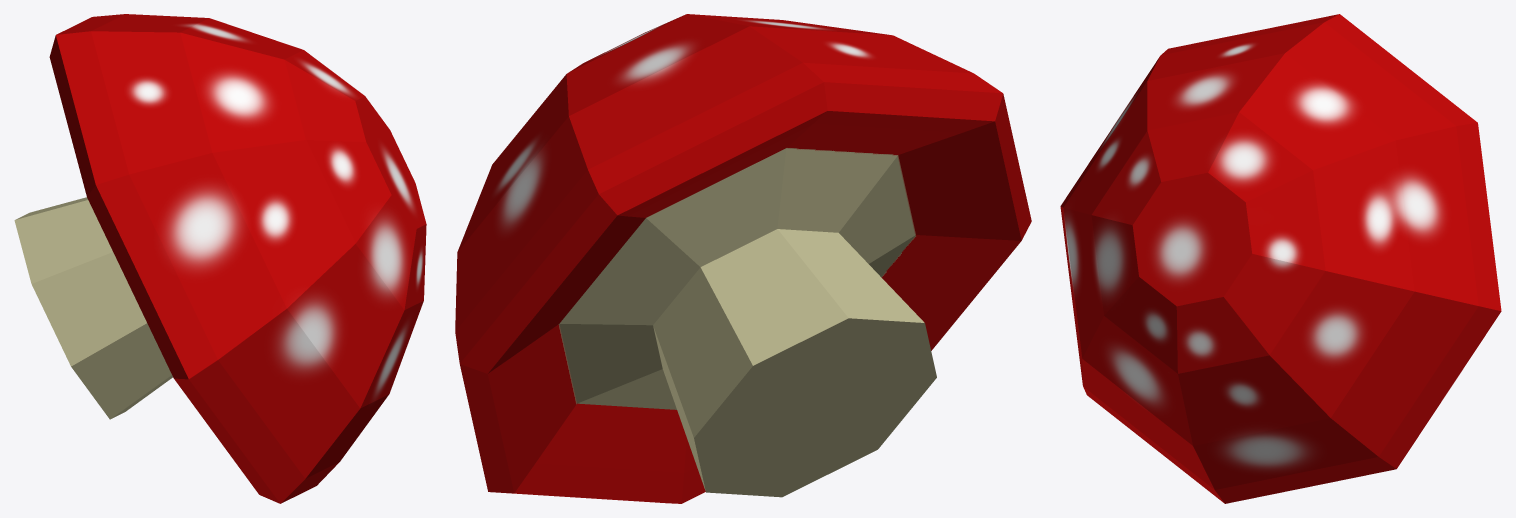
File: shroomhalf2.fbx
3 views of the same model, side by side, from view 1: azimuth 30°, elevation 25°; view 2: azimuth 150°, elevation 25°; view 3: azimuth 270°, elevation 25° (orthographic). The views are drawn at different scales.
Visible parts, largest first — view 1: Cylinder.004; view 2: Cylinder.004; view 3: Cylinder.004.
Boxes of the visible parts, <box> form: Cylinder.004: <box>14,14,426,503</box>; Cylinder.004: <box>455,14,1031,503</box>; Cylinder.004: <box>1060,14,1501,503</box>.
Bounding box in the file's own units: 4.86 × 5.8 × 5.7.
